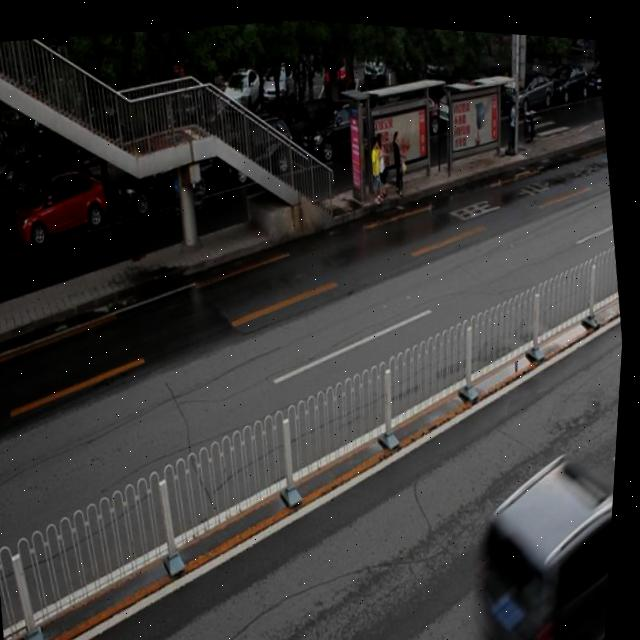car: (10, 161, 118, 251), (113, 138, 218, 221), (215, 108, 303, 190), (296, 86, 382, 165), (0, 197, 9, 267)
truck: (465, 430, 621, 640)
